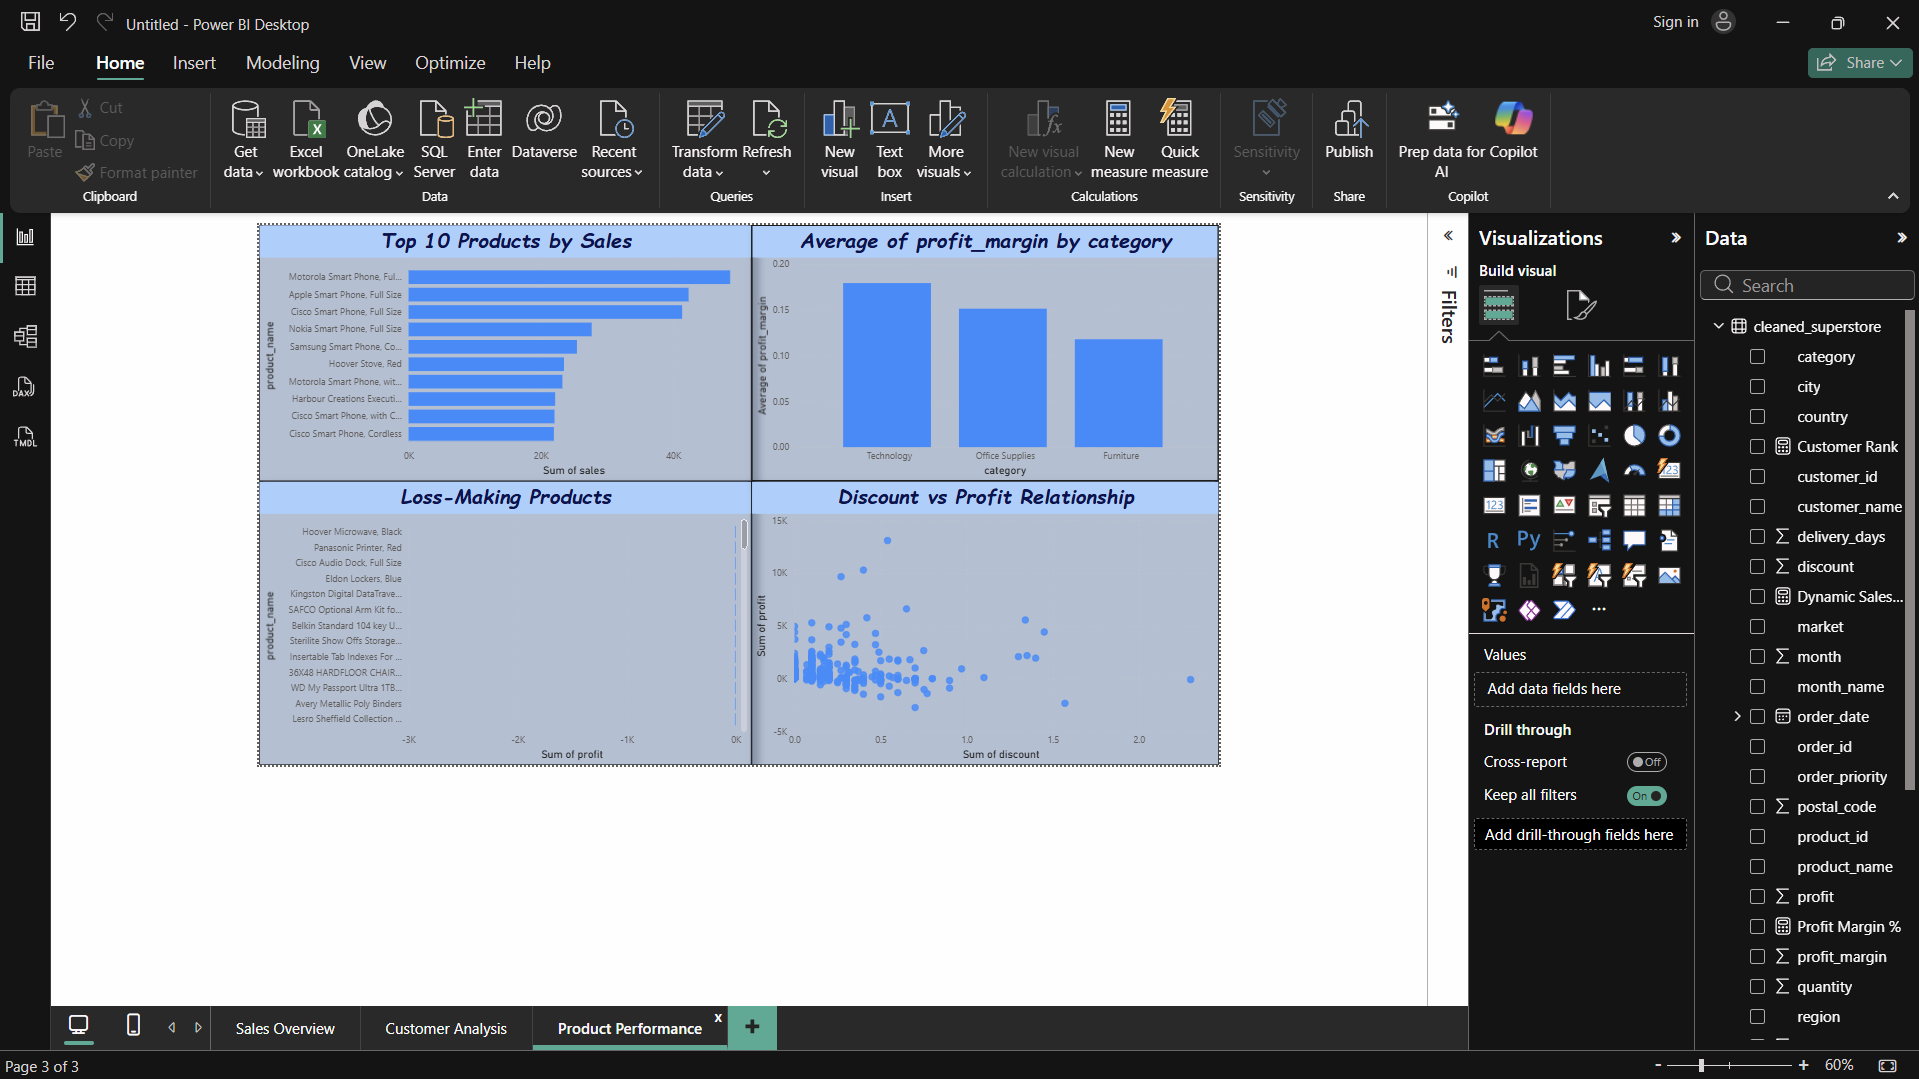

The page's visual inventory and layout, read from the dashboard file:
{"tool":"powerbi","page":{"name":"Product Performance","canvas":[1280,720],"ordinal":2},"visuals":[{"type":"clusteredBarChart","title":"Top 10 Products by Sales","fields":{"Category":["cleaned_superstore.product_name"],"Y":["Sum(cleaned_superstore.sales)"]},"box":[0,0,657.1,341.4],"z":0},{"type":"clusteredBarChart","title":"Loss-Making Products","fields":{"Category":["cleaned_superstore.product_name"],"Y":["Sum(cleaned_superstore.profit)"]},"box":[0,341.4,657.1,378.6],"z":1},{"type":"columnChart","fields":{"Category":["cleaned_superstore.category"],"Y":["Avg(cleaned_superstore.profit_margin)"]},"box":[657.1,0,622.9,341.4],"z":2},{"type":"scatterChart","title":"Discount vs Profit Relationship","fields":{"X":["Sum(cleaned_superstore.discount)"],"Y":["Sum(cleaned_superstore.profit)"],"Category":["cleaned_superstore.product_name"]},"box":[657.1,341.4,622.9,378.6],"z":3}]}

Visuals, with their boxes on the page's 1280x720 design canvas (x1, y1, x2, y2). These are canvas units, not pixel positions in the 1919x1079 screenshot, which may show the page scaled, cropped or inside an application window:
"Top 10 Products by Sales" clusteredBarChart: left=0, top=0, right=657, bottom=341
"Loss-Making Products" clusteredBarChart: left=0, top=341, right=657, bottom=720
columnChart - cleaned_superstore.category x Avg(cleaned_superstore.profit_margin): left=657, top=0, right=1280, bottom=341
"Discount vs Profit Relationship" scatterChart: left=657, top=341, right=1280, bottom=720
